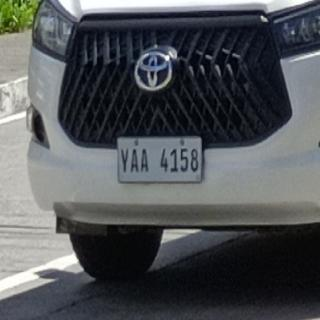license: (119, 138, 203, 184)
